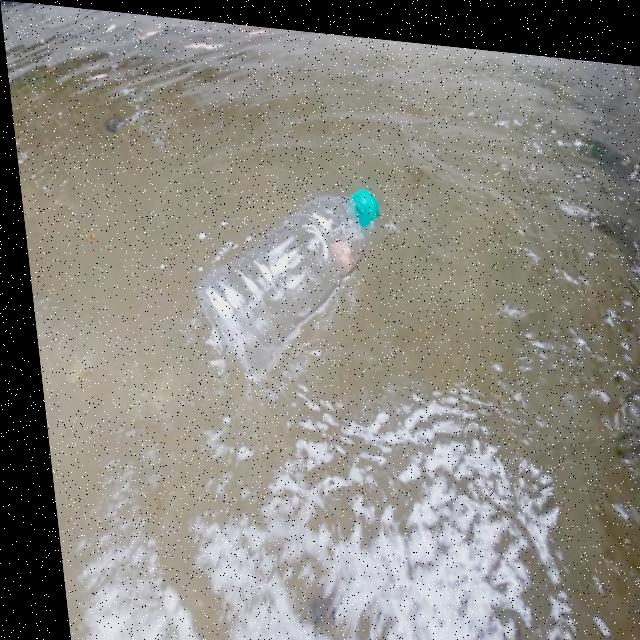waterbottle: (151, 142, 414, 382)
